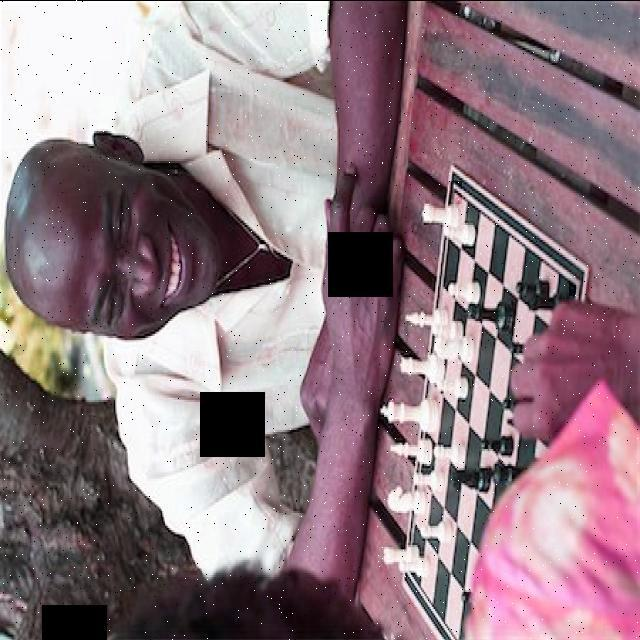chess-table-corners: (448, 180, 462, 203), (569, 277, 580, 295)
